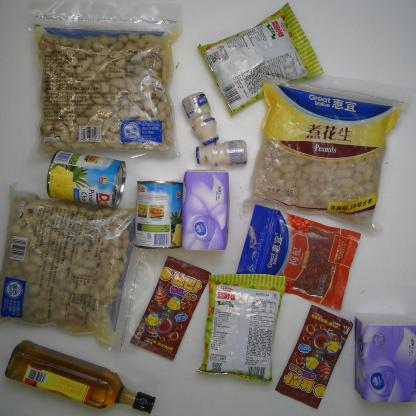Candy: (128, 255, 212, 361), (275, 304, 354, 410)
Canned Food: (44, 147, 128, 208), (132, 179, 184, 250)
Dried Food: (236, 70, 414, 244), (0, 181, 160, 360), (24, 0, 186, 161)
Dried Fruit: (235, 203, 362, 309)
Milk: (180, 91, 220, 146), (194, 138, 248, 166)
Puffed Food: (196, 2, 326, 118), (195, 273, 288, 384)
Seasoner: (4, 339, 156, 414)
Tissue: (351, 311, 416, 404), (180, 168, 232, 252)
